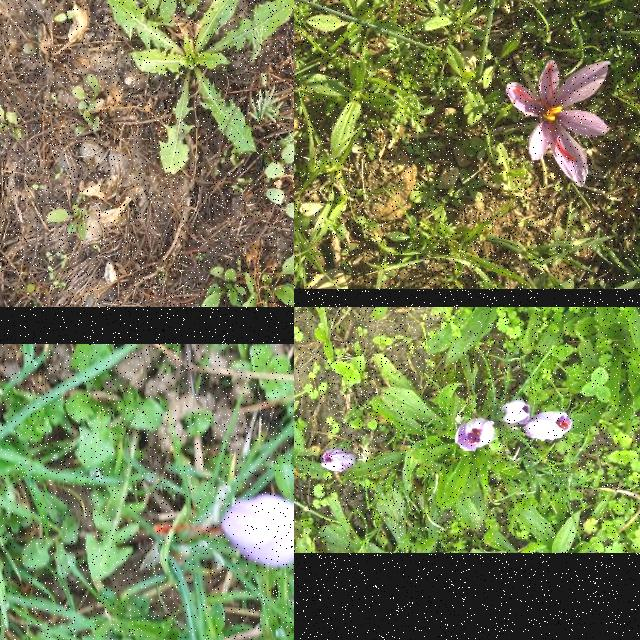flower: (507, 62, 608, 188), (153, 495, 294, 567), (525, 412, 573, 442), (456, 418, 496, 452), (503, 400, 533, 428), (322, 451, 358, 474)
